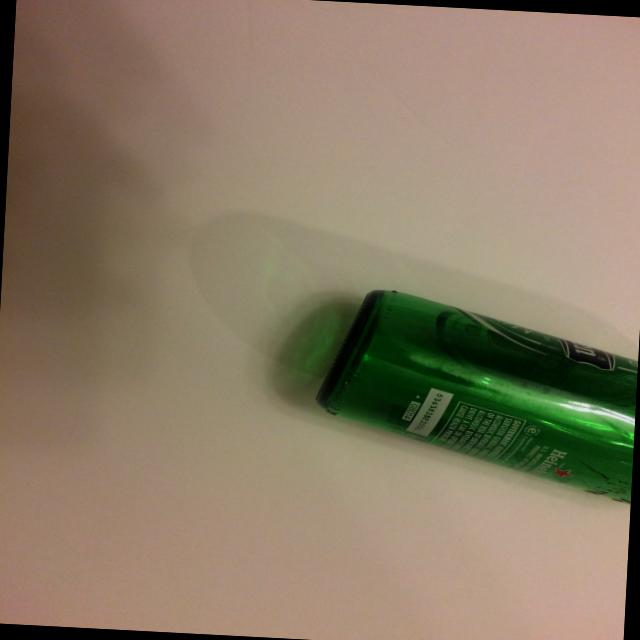Glass: (298, 279, 640, 512)
